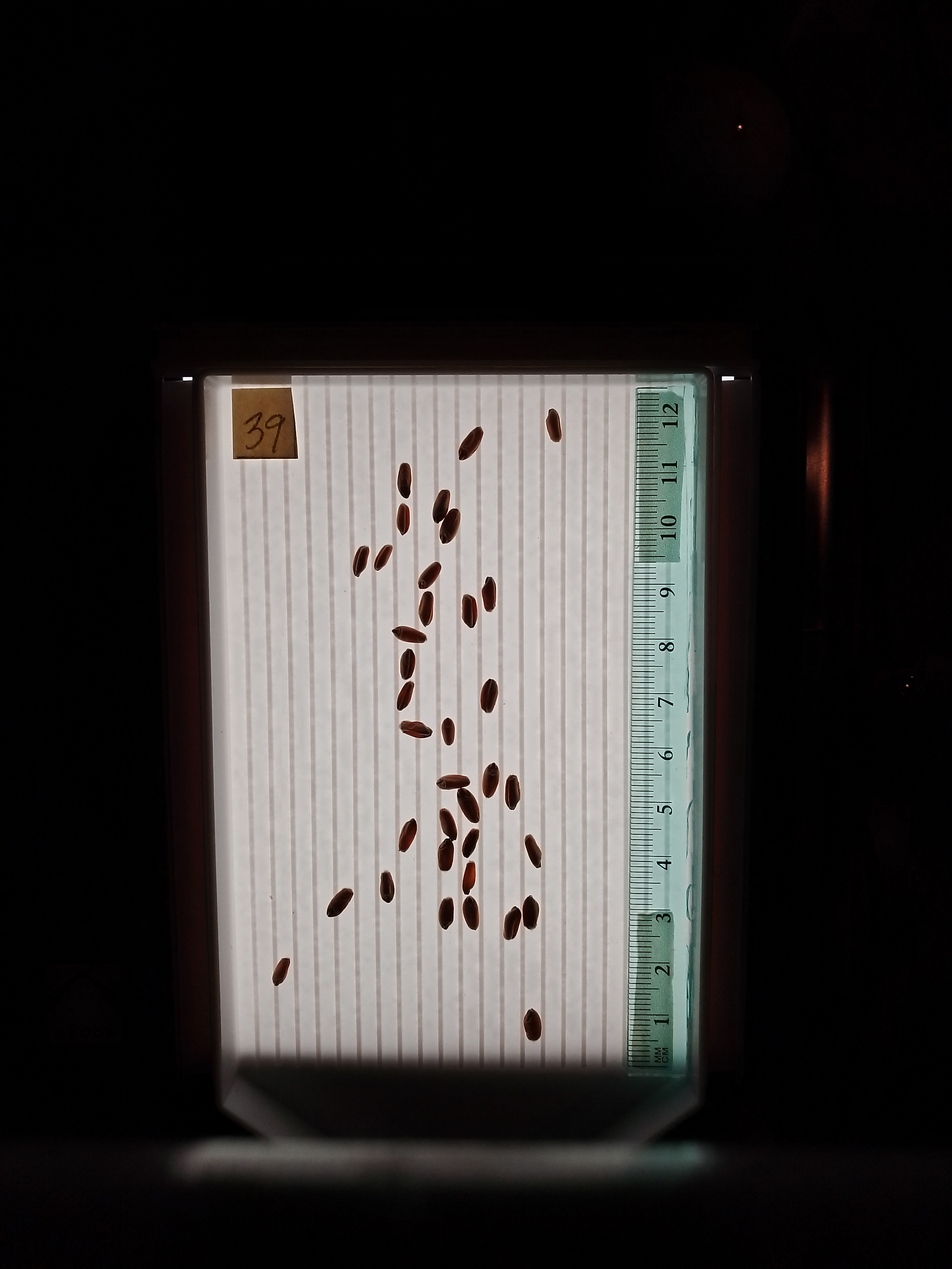seed mask: (458, 427, 483, 460), (327, 888, 353, 917), (440, 509, 460, 544), (458, 791, 479, 823), (393, 626, 426, 645), (418, 562, 441, 589), (480, 679, 498, 713), (400, 720, 432, 739), (432, 490, 450, 523), (523, 1010, 542, 1041), (399, 820, 417, 852), (482, 764, 499, 797), (504, 908, 521, 940), (439, 809, 457, 839), (546, 409, 562, 442), (523, 897, 539, 930), (482, 577, 497, 612), (272, 957, 290, 986), (463, 898, 479, 930), (526, 835, 542, 867), (397, 463, 412, 497), (462, 595, 477, 628), (438, 774, 468, 790), (438, 841, 454, 871), (506, 776, 520, 810), (374, 545, 392, 571), (353, 546, 369, 575), (397, 683, 414, 710), (462, 830, 479, 857), (419, 594, 433, 626), (380, 872, 394, 903), (400, 651, 415, 679), (439, 899, 453, 929), (397, 505, 410, 534), (462, 863, 475, 892), (442, 718, 455, 744)
